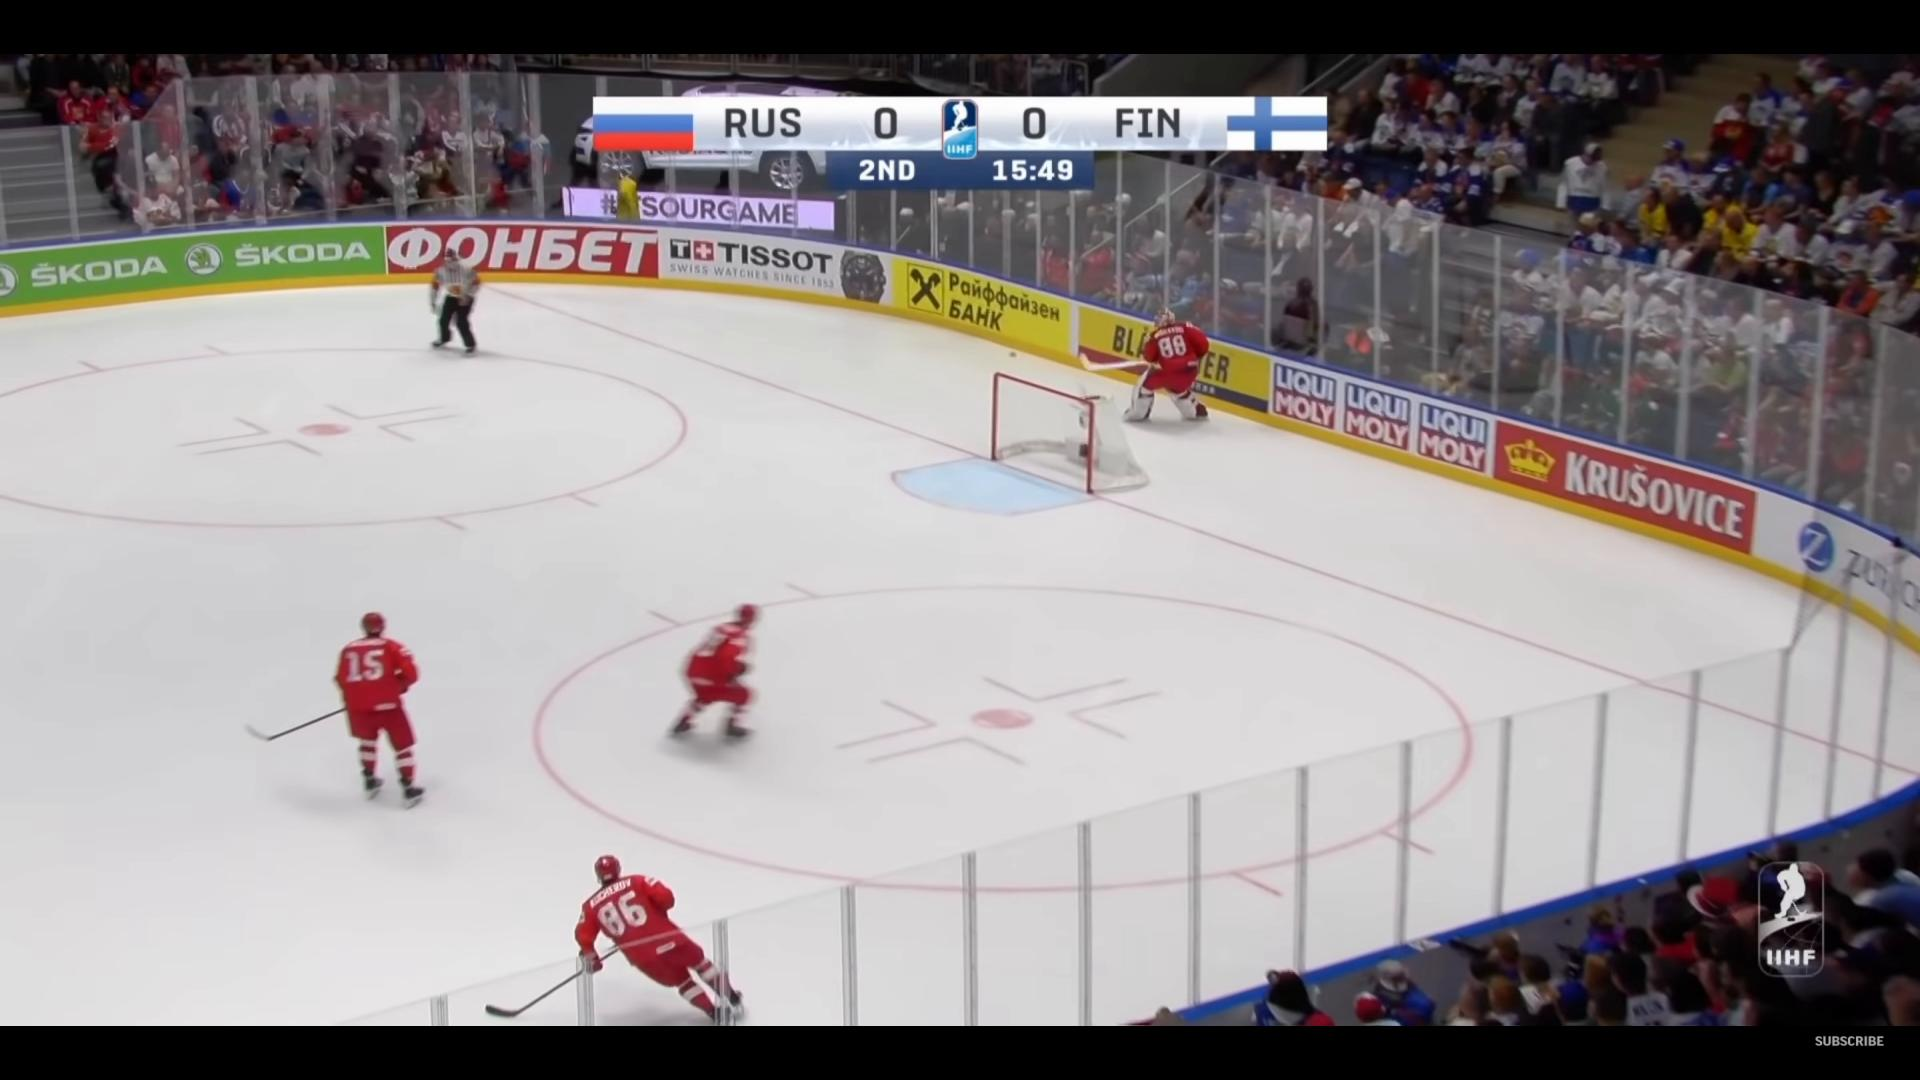puck: (1007, 351, 1018, 357)
